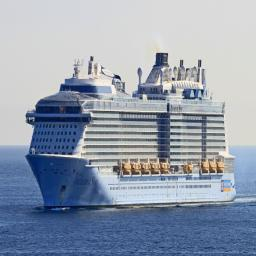cruises: (25, 48, 238, 213)
